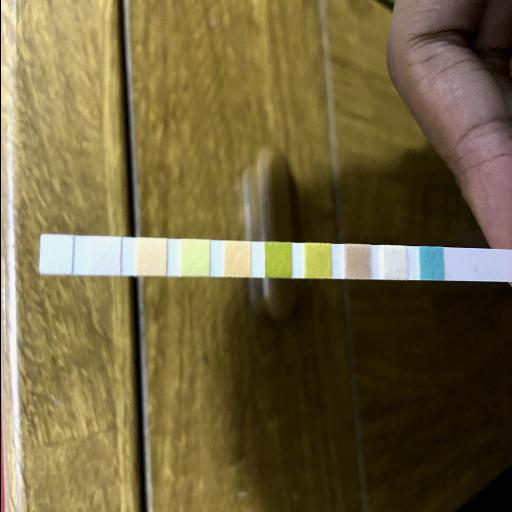Bilirubin: (380, 246, 406, 280)
Blood: (264, 242, 292, 278)
Glucose: (418, 248, 442, 280)
Ketone: (343, 244, 369, 278)
Leukocytes: (40, 235, 70, 273)
Nitrite: (90, 238, 120, 274)
Protein: (180, 240, 208, 276)
SpGravity: (304, 244, 330, 278)
Urobilinogen: (136, 238, 166, 276)
pH: (223, 242, 249, 276)
strip: (39, 235, 488, 281)
